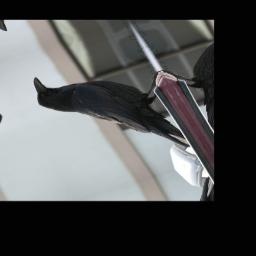Crow: (24, 43, 203, 181)
